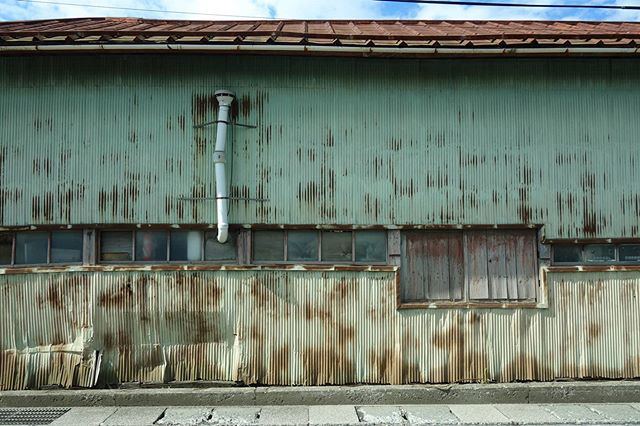building: (4, 15, 636, 401)
